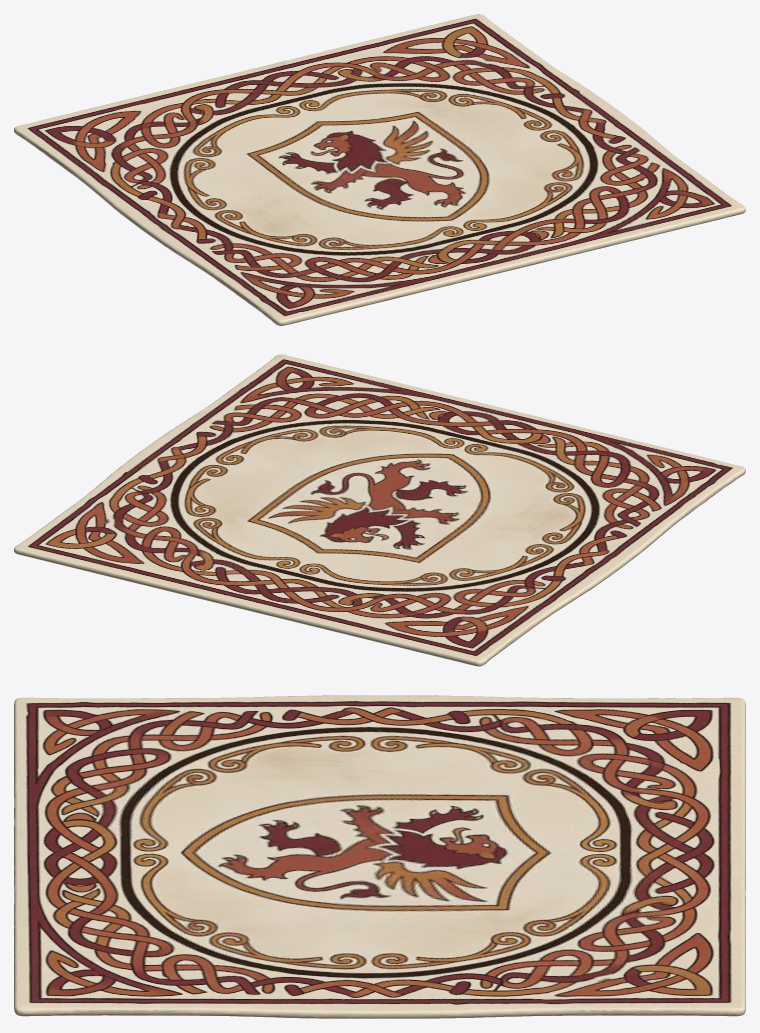
File: royal-crest-rug.glb
The picture shows the model from 3 angles, top to bottom: view 1: azimuth 30°, elevation 25°; view 2: azimuth 150°, elevation 25°; view 3: azimuth 270°, elevation 25°; orthographic projection. The views are drawn at different scales.
Parts seen in each view (by area): view 1: mesh_node; view 2: mesh_node; view 3: mesh_node.
Part boxes in pixels (x1,y1,x2,y2): mesh_node: [14, 14, 745, 325]; mesh_node: [14, 354, 745, 666]; mesh_node: [14, 695, 745, 1018].
Bounding box in the file's own units: 1.9 × 0.022 × 1.84.
Materials: 1 (1 with a texture image).
